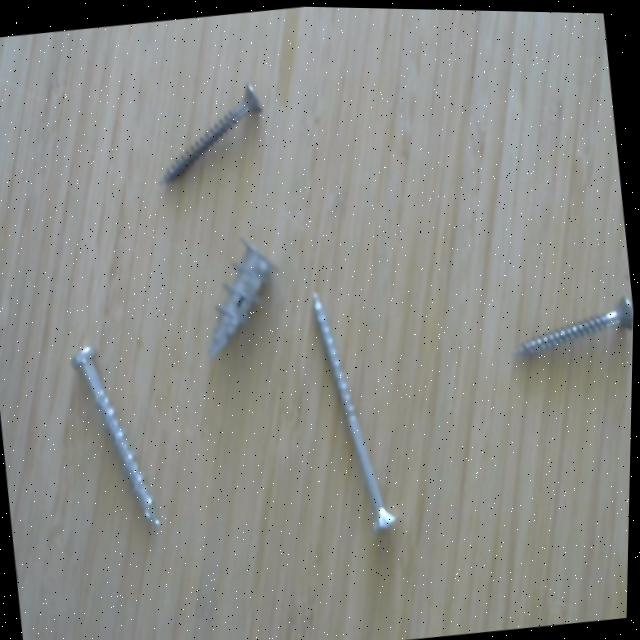Black screw: (149, 71, 278, 193), (503, 288, 635, 367)
Long screw: (299, 271, 410, 547)
Medium screw: (62, 323, 176, 544)
Short screw: (194, 222, 292, 363)
